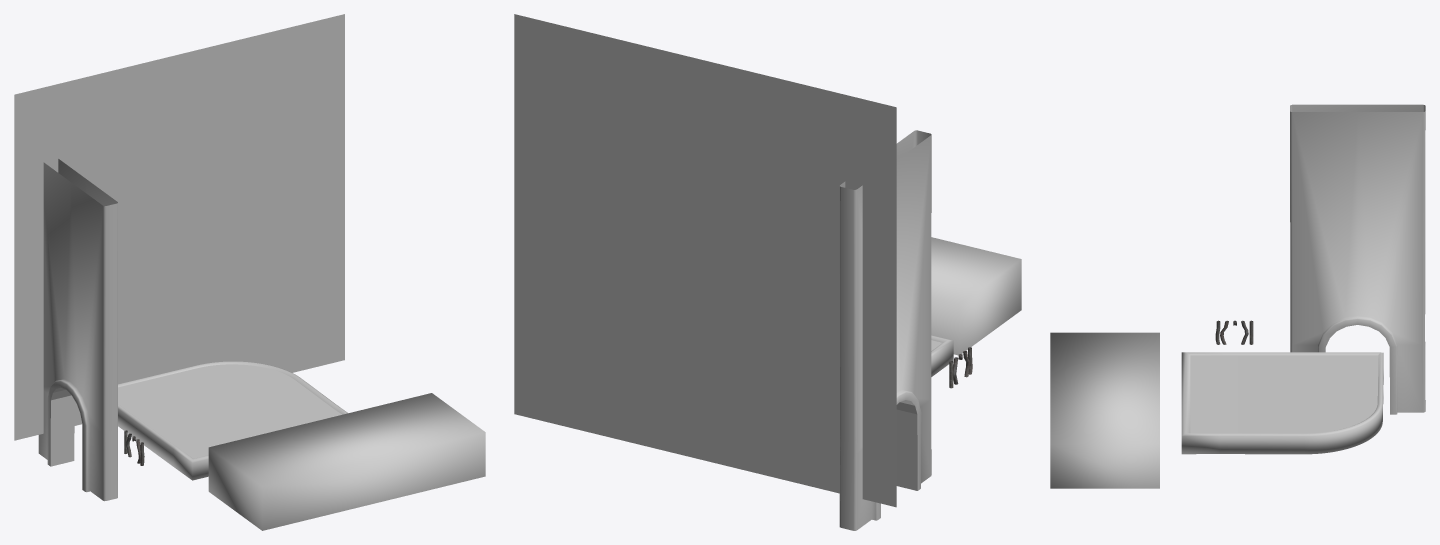
The model's file is Arena_Boss_Crab.fbx.
3 views of the same model, side by side, from view 1: azimuth 30°, elevation 25°; view 2: azimuth 150°, elevation 25°; view 3: azimuth 270°, elevation 25° (orthographic). The views are drawn at different scales.
Visible parts, largest first — view 1: Plane.118, Plane, Parede.001, Plane.116; view 2: Plane.118, Parede.001, Plane, Plane.116; view 3: Parede.001, Plane.116, Plane, Plane.002.
Boxes of the visible parts, x1,y1,x2,y2 form: Plane.118: (14, 14, 344, 440); Plane: (208, 393, 485, 530); Parede.001: (38, 159, 117, 501); Plane.116: (118, 361, 348, 480); Plane.118: (514, 14, 896, 507); Parede.001: (839, 130, 931, 530); Plane: (931, 237, 1021, 355); Plane.116: (931, 335, 953, 376); Parede.001: (1290, 104, 1425, 414); Plane.116: (1181, 352, 1383, 454); Plane: (1050, 332, 1159, 488); Plane.002: (1215, 320, 1253, 344).
Size of the model in its own units: 5419 by 5788 by 5224.
